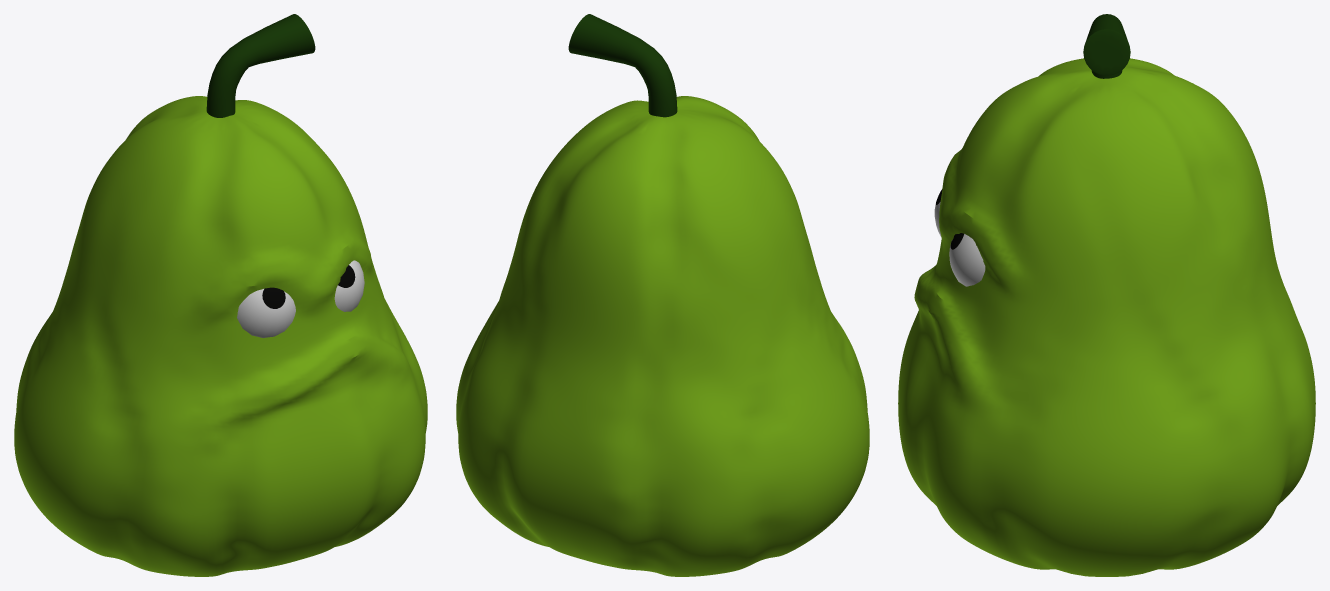
3 views of the same model, side by side, from view 1: azimuth 30°, elevation 25°; view 2: azimuth 150°, elevation 25°; view 3: azimuth 270°, elevation 25° (orthographic). The views are drawn at different scales.
Visible parts, largest first — view 1: yanglintaobao888_29; view 2: yanglintaobao888_29; view 3: yanglintaobao888_29.
Part boxes in pixels (x1,y1,x2,y2): yanglintaobao888_29: (14, 14, 427, 576); yanglintaobao888_29: (456, 14, 869, 576); yanglintaobao888_29: (898, 14, 1315, 576).
Size of the model in its own units: 2.2 by 2.94 by 2.
